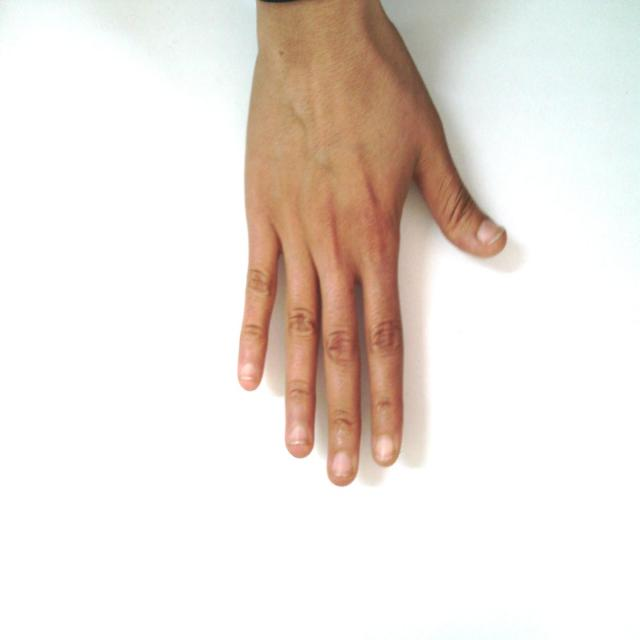others: (169, 1, 543, 490)
